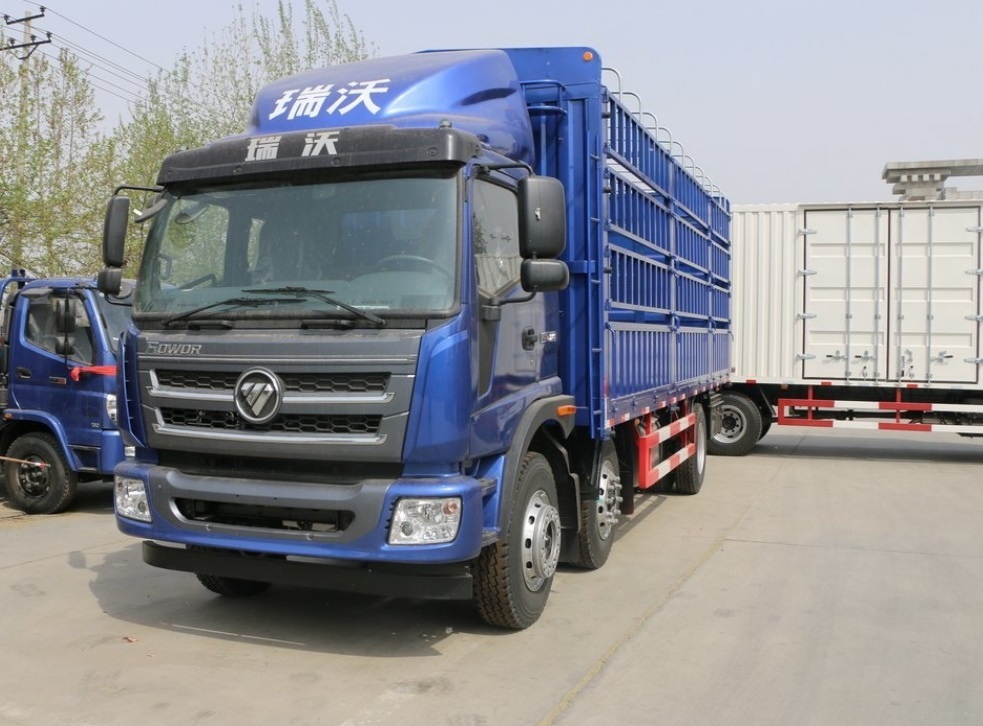heavy truck: (111, 41, 729, 633)
